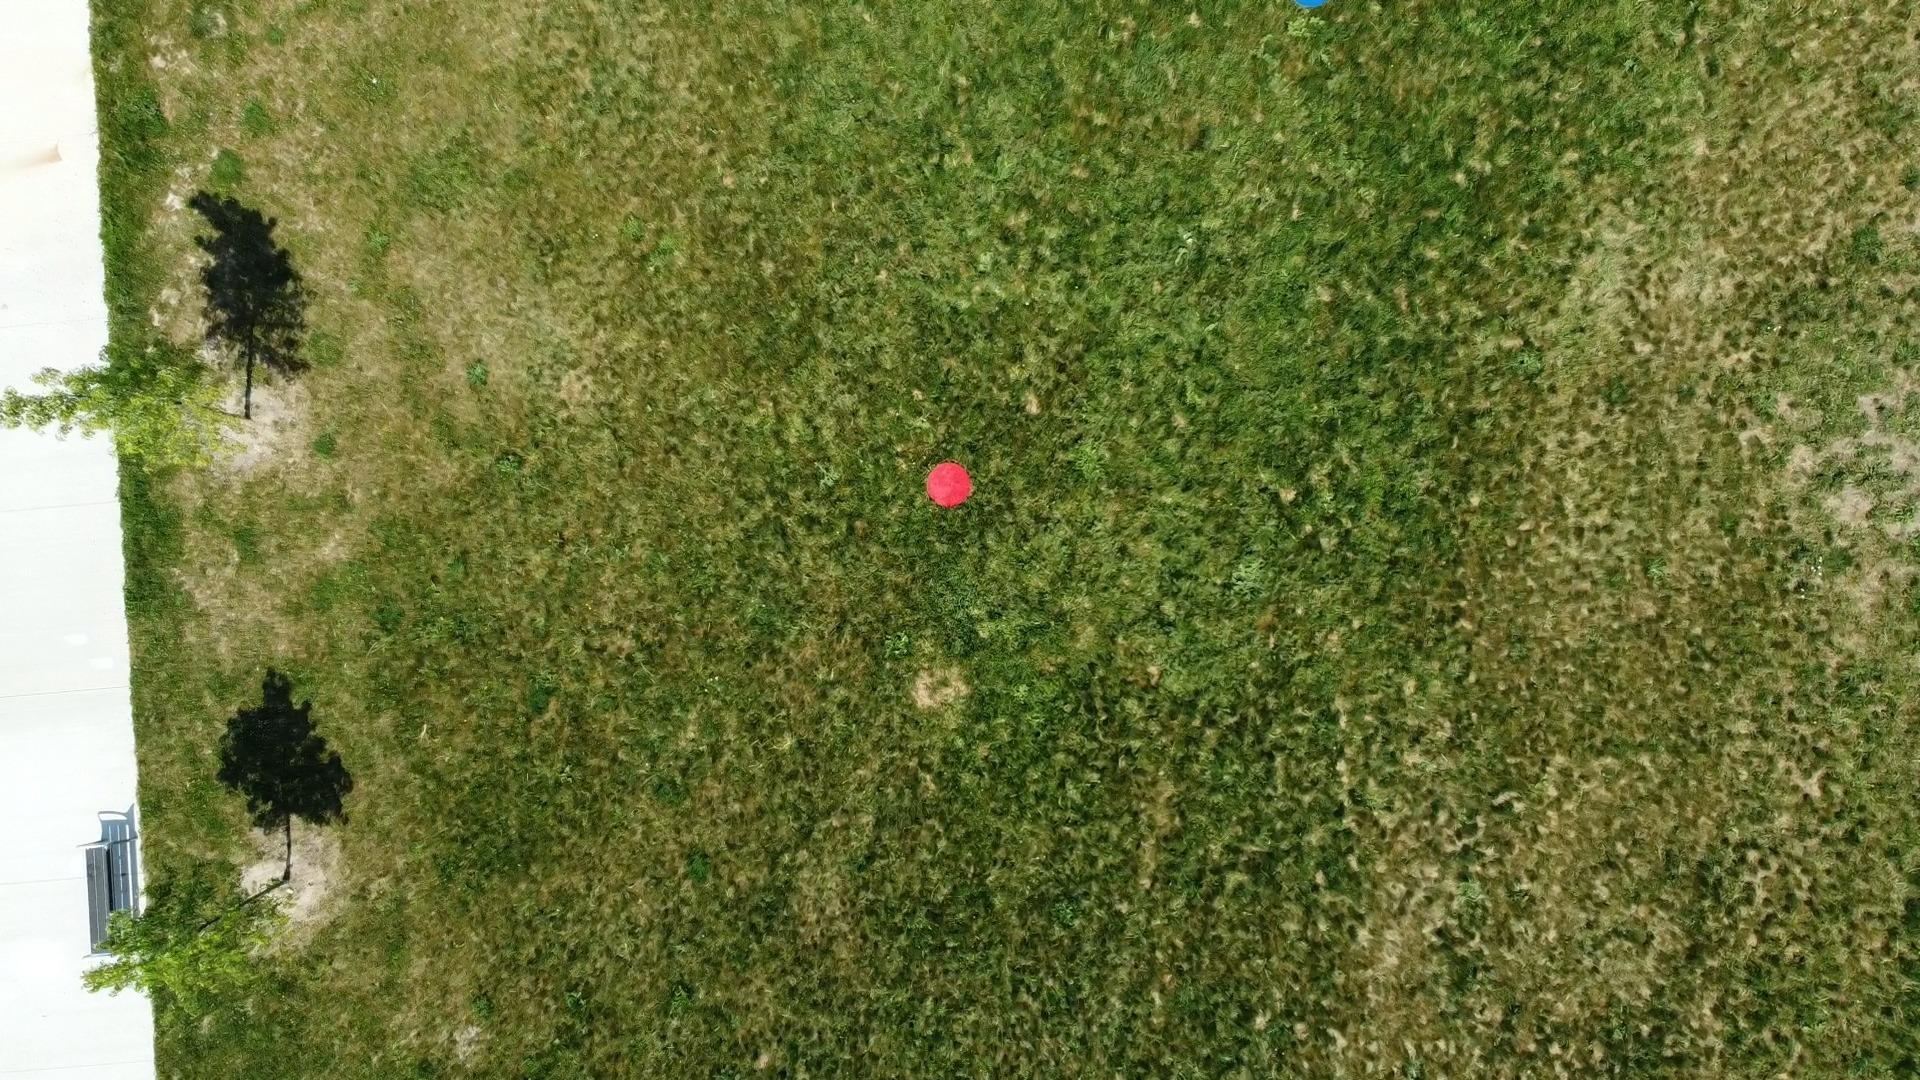Blue: (1288, 0, 1333, 11)
Red: (924, 460, 975, 509)
